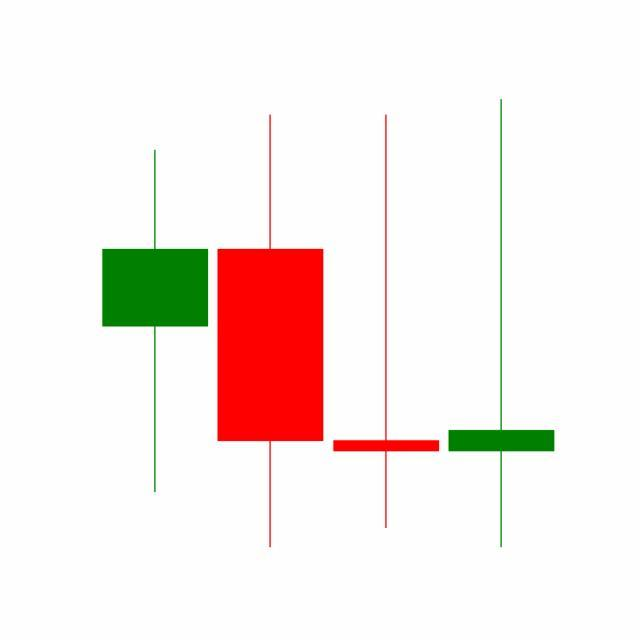Spinning Top: (329, 110, 445, 533)
